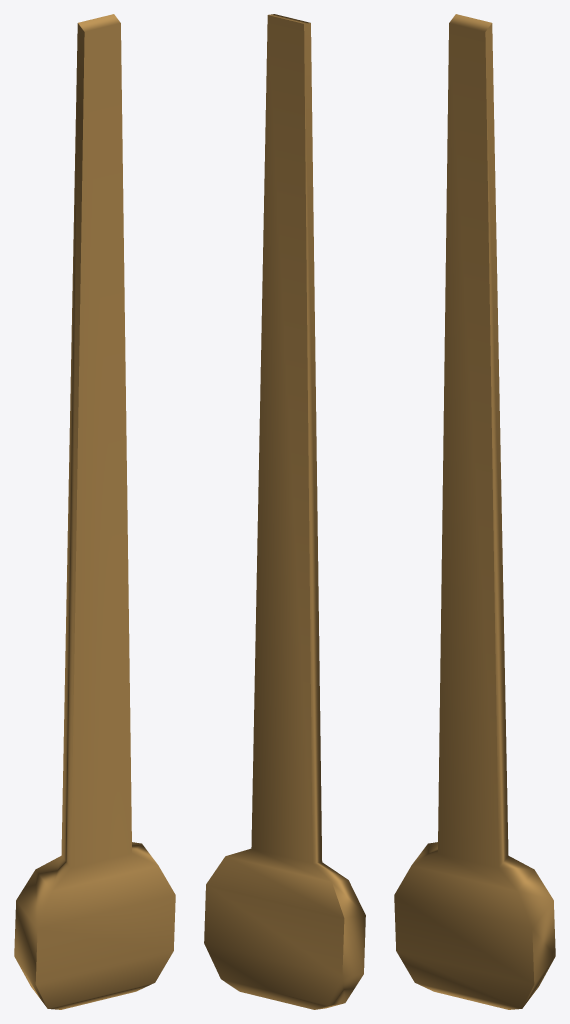
The model's file is Swinger.fbx.
The picture shows the model from 3 angles, left to right: view 1: azimuth 30°, elevation 25°; view 2: azimuth 150°, elevation 25°; view 3: azimuth 330°, elevation 25°; orthographic projection.
Visible parts, largest first — view 1: Clock (1); view 2: Clock (1); view 3: Clock (1).
Part boxes in pixels (x1,y1,x2,y2): Clock (1): (14, 14, 175, 1009); Clock (1): (204, 14, 365, 1009); Clock (1): (394, 14, 555, 1009).
Bounding box in the file's own units: 0.2141 × 1.45 × 0.0629.
1 material, 1 textured.
